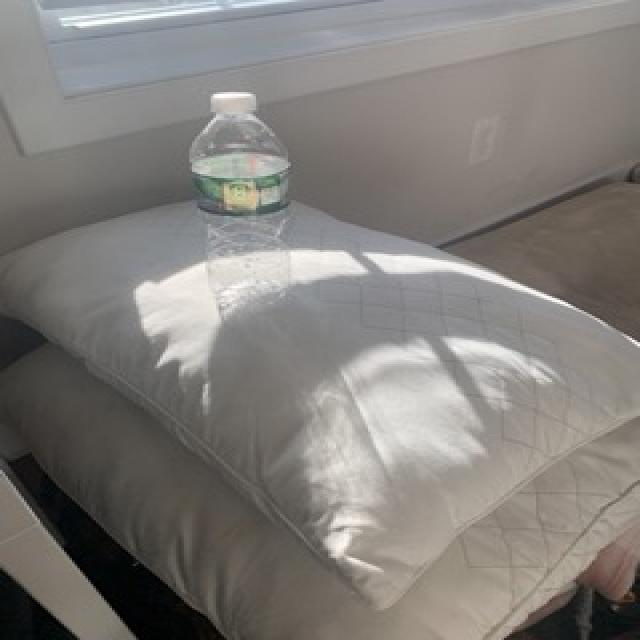water_bottle: (188, 87, 304, 317)
